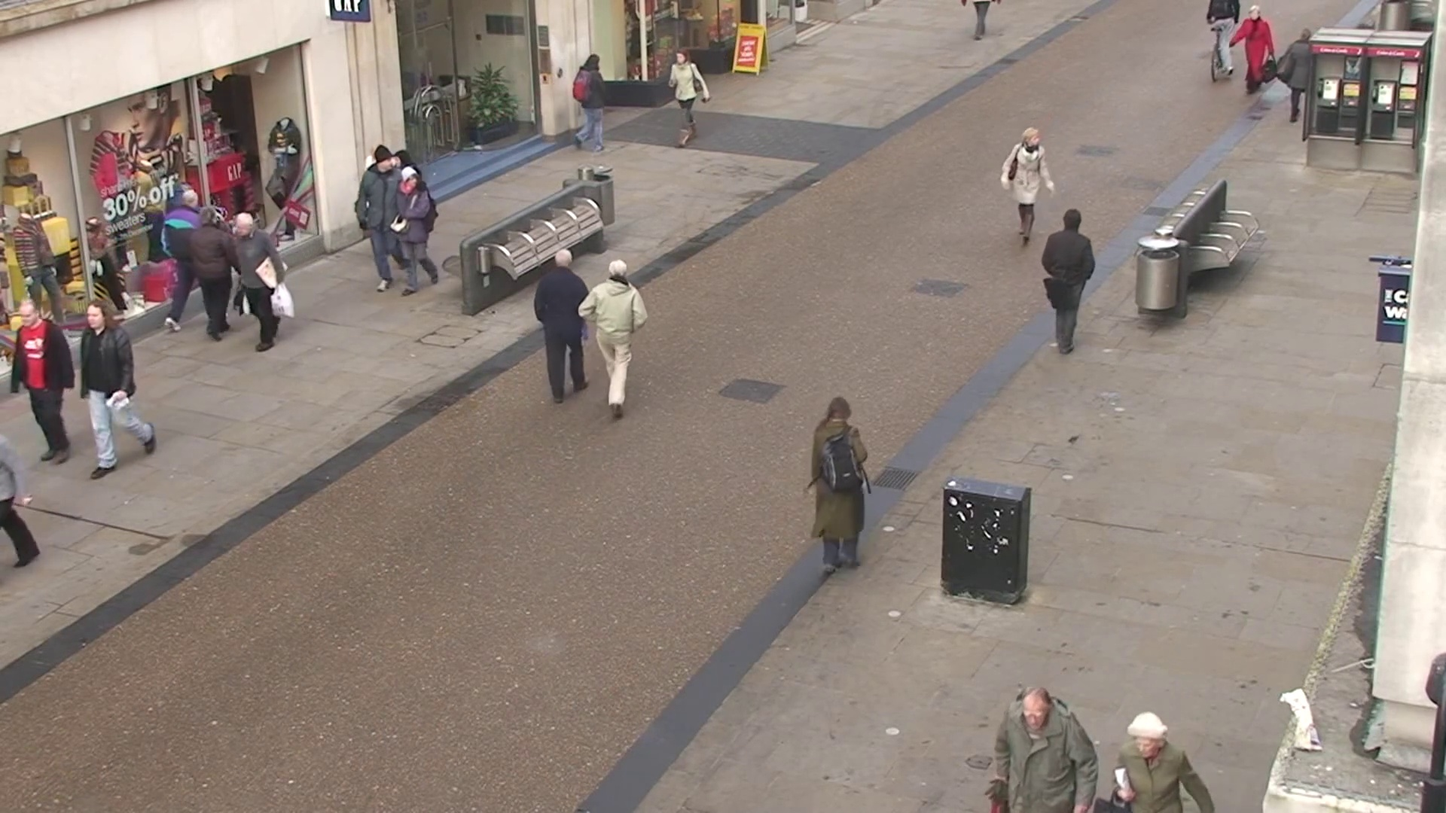person: (993, 687, 1100, 813), (808, 397, 874, 575), (1103, 711, 1216, 813), (579, 257, 648, 419), (15, 299, 78, 465), (75, 300, 135, 474), (532, 243, 592, 405), (1042, 209, 1097, 356), (353, 145, 407, 294), (185, 215, 238, 342), (1001, 126, 1054, 247), (394, 160, 439, 289), (0, 432, 41, 567), (245, 239, 290, 352), (570, 53, 610, 153), (669, 51, 709, 148), (1233, 8, 1276, 95)
